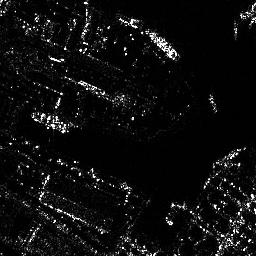ship: (146, 29, 179, 60), (29, 110, 71, 134)
